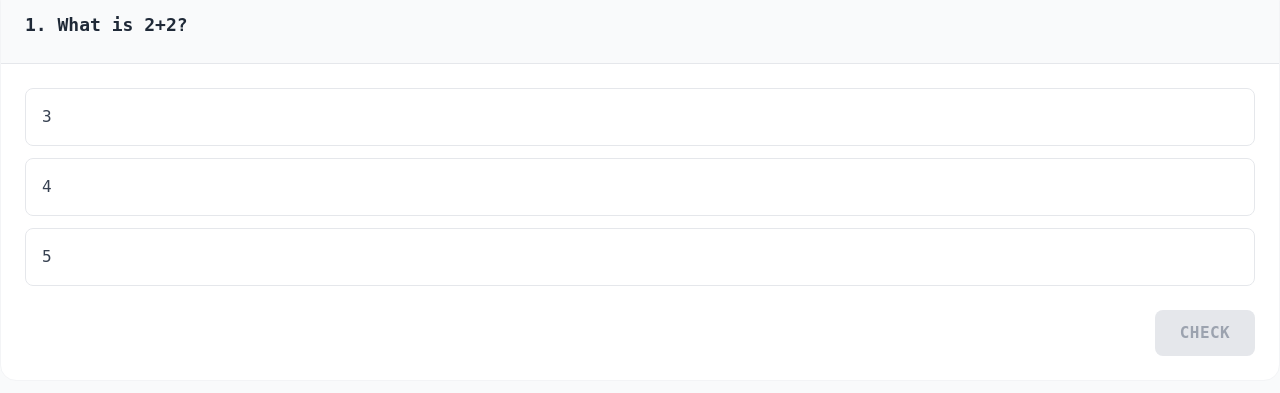
Test: Quiz Component › should handle incorrect answer selection
The width and height of the screenshot is (1280, 393).
Click the button "3": [47, 116] box 25,88 -> 1255,146
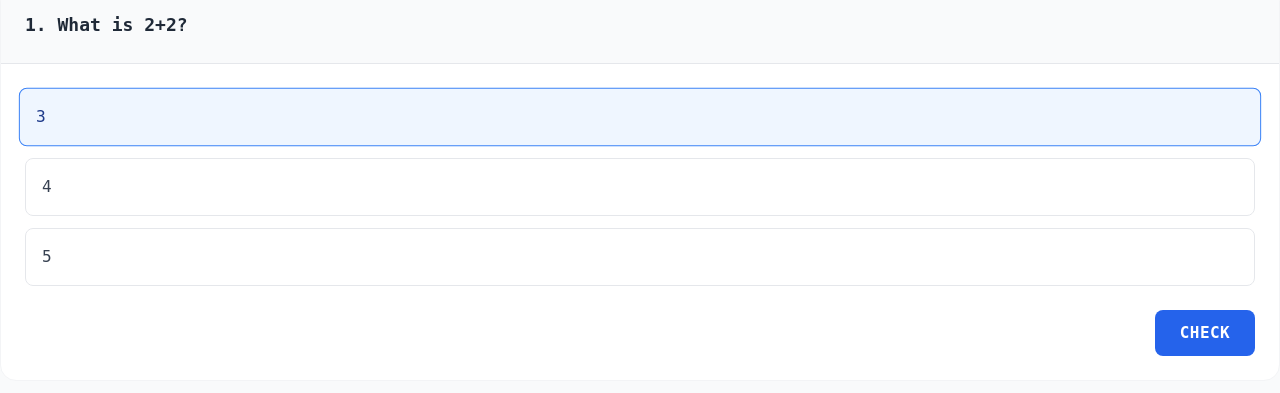
Click the button "Check": [1205, 333] box 1155,310 -> 1255,356
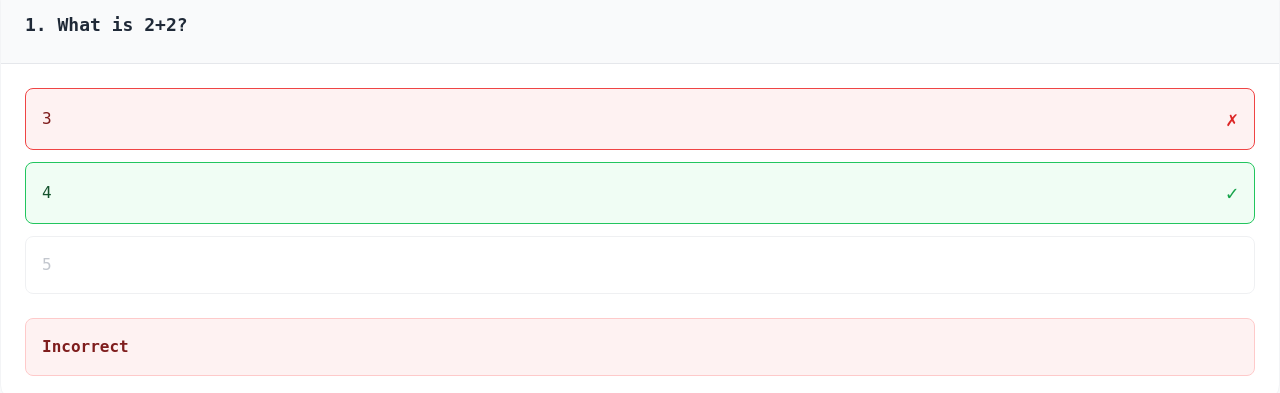
Result: the text "Incorrect" is shown at 42,337 -> 129,356
Result: the text "✗" is shown at 1226,105 -> 1238,133
